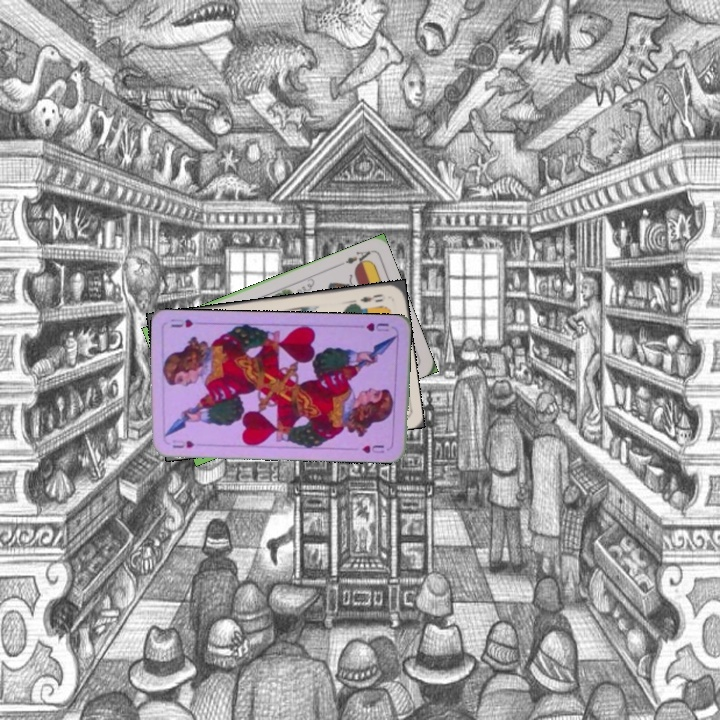EA: (335, 247, 373, 269)
EO: (356, 290, 386, 305)
HU: (362, 319, 391, 334), (168, 436, 197, 451)
